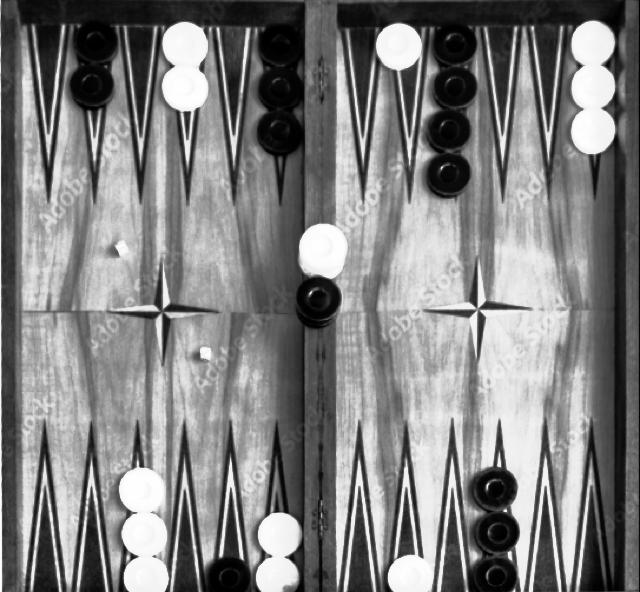bar: (304, 331, 338, 587), (306, 7, 337, 222)
board: (5, 2, 633, 592)
dark_p: (292, 275, 347, 329), (468, 464, 523, 514), (423, 151, 475, 201), (429, 20, 479, 70), (423, 107, 475, 155), (255, 108, 304, 157), (73, 17, 121, 67), (68, 62, 116, 111), (257, 22, 306, 69), (473, 511, 523, 557), (430, 65, 479, 111), (256, 65, 303, 111), (471, 554, 519, 592), (206, 555, 253, 592)
dice: (112, 238, 133, 258), (196, 344, 215, 364)
light_p: (295, 224, 349, 274), (373, 20, 425, 71), (159, 65, 212, 115), (160, 19, 213, 68), (568, 18, 622, 66), (568, 108, 621, 156), (117, 511, 171, 558), (115, 467, 168, 514), (568, 64, 620, 109), (257, 512, 307, 558), (383, 553, 436, 590), (121, 556, 173, 592), (252, 557, 304, 592)
